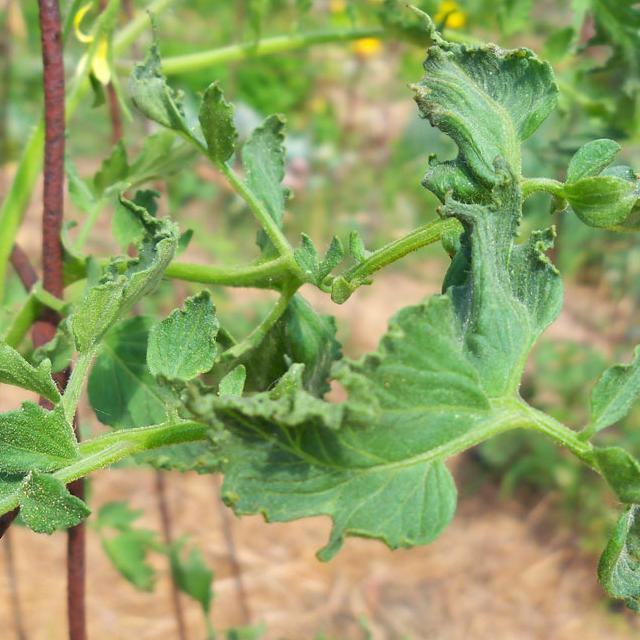Tomato leaf mosaic virus: (220, 294, 527, 546), (406, 3, 566, 416), (0, 399, 87, 547), (587, 421, 640, 632), (140, 288, 226, 383), (242, 101, 294, 234)
